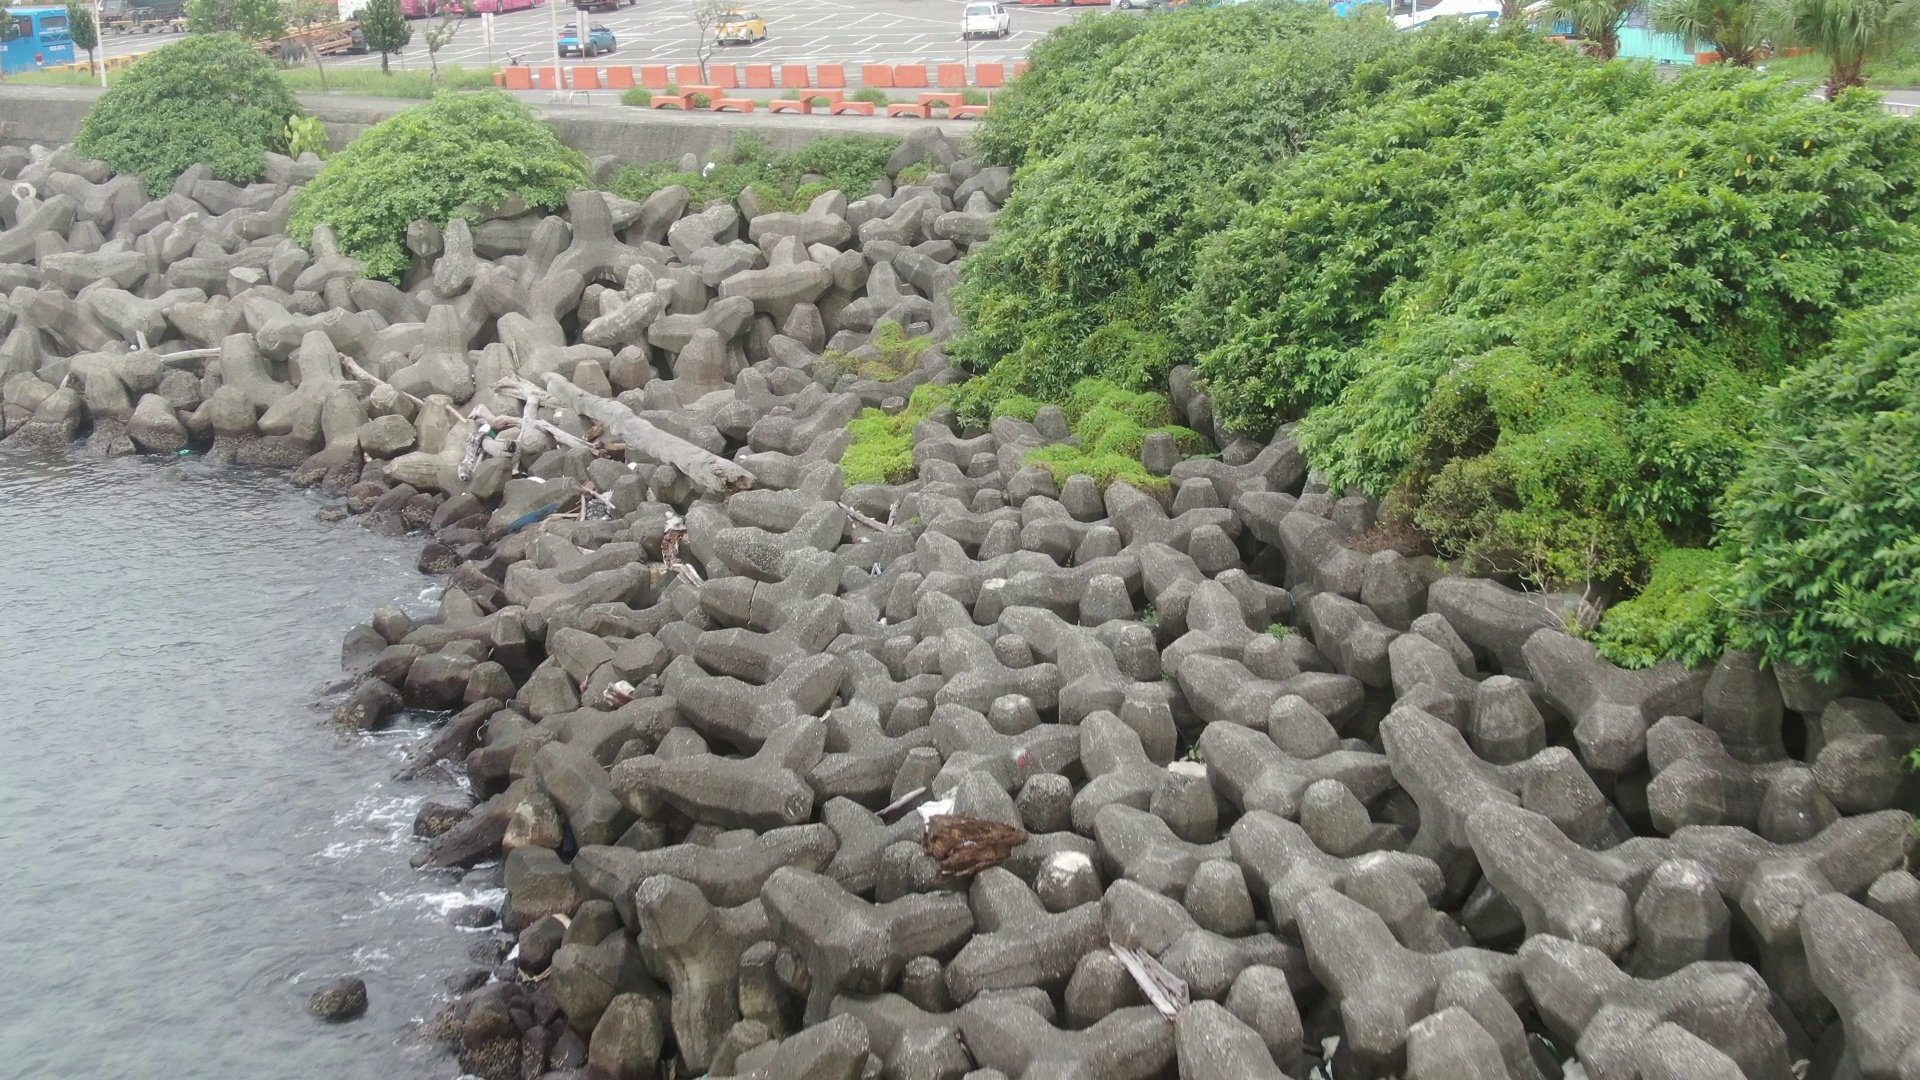garbage: (465, 495, 570, 545), (1520, 1021, 1598, 1077), (1295, 1011, 1349, 1080), (555, 483, 621, 527), (167, 438, 208, 473), (695, 158, 721, 186)
